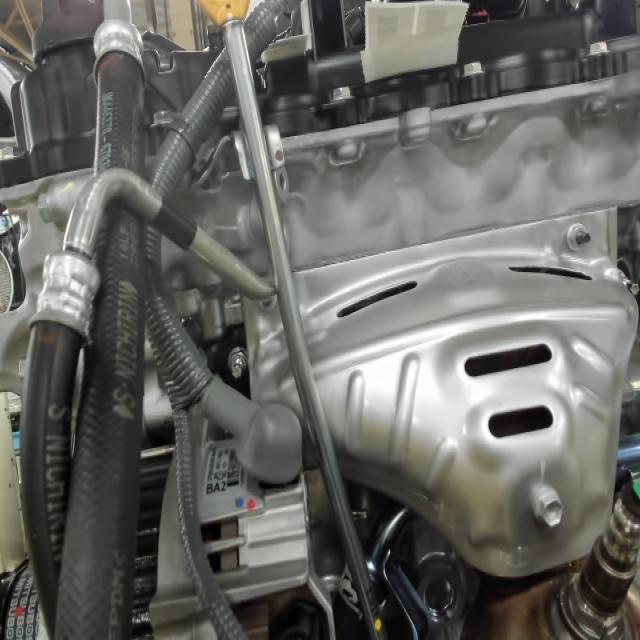Alternator-BA2: (200, 467, 238, 502)
Hose Discharge-HT: (148, 192, 203, 257)
